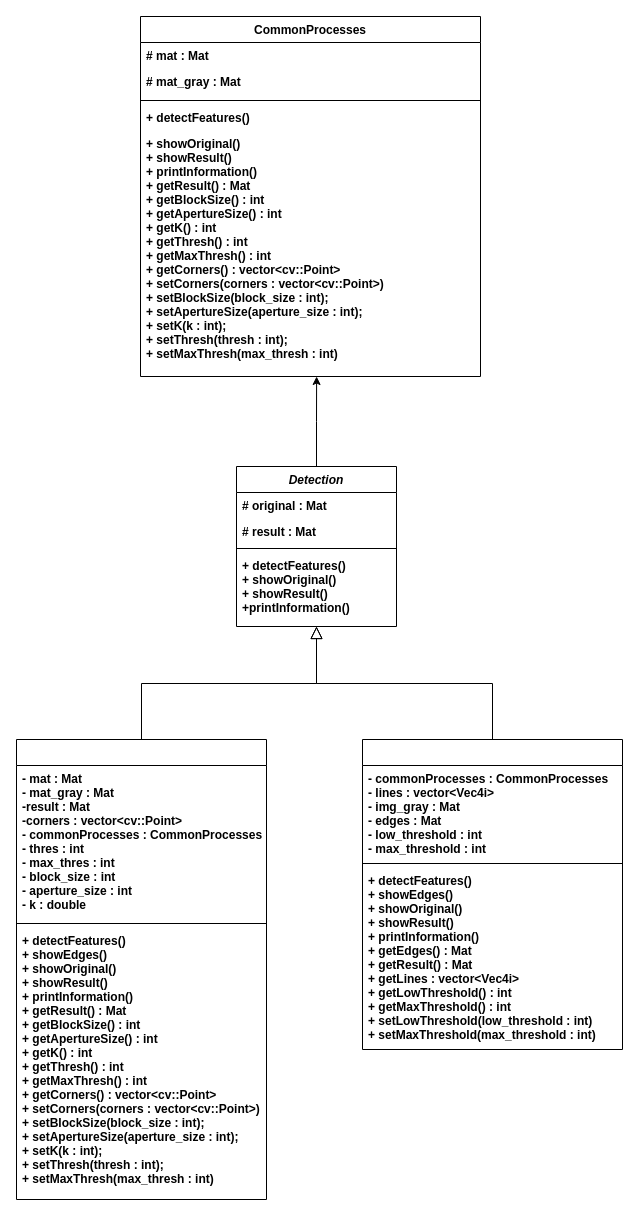
The diagram is 639 pixels wide and 1216 high, and some of its shapes have lost their labels. The shapes that lost their labels are listed below. From the top down, each one's box as (x1, y1, x2, y2) in pixels, then its label:
(362, 738, 622, 1050): Line Detection
(16, 738, 266, 1200): Corner Detection
